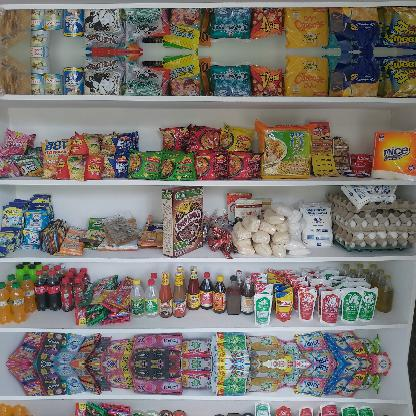Koko-Krunch: (161, 185, 205, 259)
